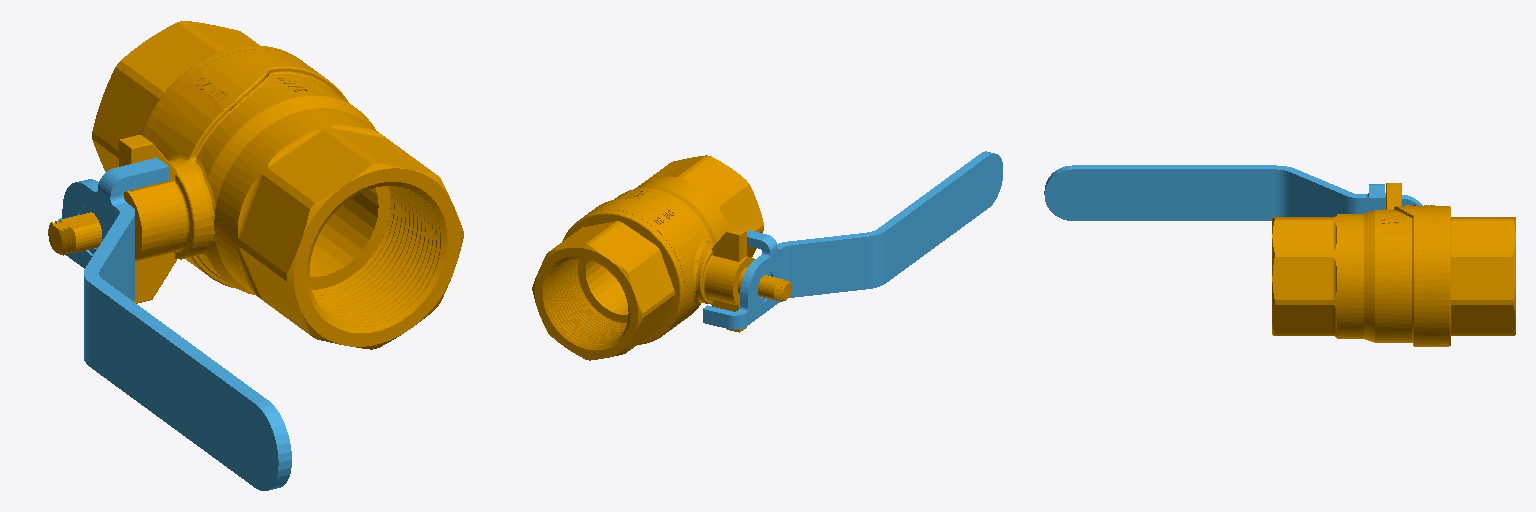
robot.urdf — valvula:
<?xml version="1.0" encoding="UTF-8"?>
<robot name="valvula">
  <joint name="RevoluteJoint" type="revolute">
    <origin xyz="0.0373985 0. 0. " rpy="0. 0. 3.14159"/>
    <parent link="body"/>
    <child link="lever_pivot"/>
    <axis xyz="1. 0. 0."/>
    <limit lower="0." upper="1.5707963" effort="100." velocity="10."/>
  </joint>
  <link name="body">
<inertial>
      <origin xyz="0 0 0" rpy="0 0 0"/>
      <mass value="1.0"/>
      <inertia ixx="0.001" ixy="0" ixz="0" iyy="0.001" iyz="0" izz="0.001"/>
    </inertial>  
    <visual>
      <origin xyz="0.0374 0. 0. " rpy="0. 0. 1.5707964"/>
      <geometry>
        <mesh filename="./meshes/Mesh_1.obj" scale="1. 1. 1."/>
      </geometry>
    </visual>
    <collision>
      <origin xyz="0.04 0.01150000054622069 -1.5075335787680833e-19" rpy="0 0 0"/>
      <geometry>
        <box size="0.06400000303983688 0.06000000284984708 0.0370000017574057"/>
      </geometry>
    </collision>
  </link>
  <link name="lever_pivot">
<inertial>
      <origin xyz="0 0 0" rpy="0 0 0"/>
      <mass value="0.2"/>
      <inertia ixx="0.0001" ixy="0" ixz="0" iyy="0.0001" iyz="0" izz="0.0001"/>
    </inertial>  
    <visual>
    <origin xyz="0. -0.0000015 0. " rpy="0. 0. -1.5707963"/>
      <geometry>
        <mesh filename="./meshes/Mesh_3.obj" scale="1. 1. 1."/>
      </geometry>
    </visual>
    <collision>
    <origin xyz="0.038 0.039 0.0019985137935021884" rpy="0 0 -1.5707963"/>      <geometry>
        <box size="0.10550000119628367 0.029 0.019"/>
      </geometry>
    </collision>
  </link>
</robot>

--- Facts derived from the render (not from the file) ---
Views: 3 orthographic renders of the robot side by side, from view 1: azimuth 30°, elevation 25°; view 2: azimuth 150°, elevation 25°; view 3: azimuth 270°, elevation 25°.
Model valvula with 2 links and 1 joints (1 revolute), rooted at body, posed every joint at zero.
Visible links, largest first — view 1: body, lever_pivot; view 2: body, lever_pivot; view 3: body, lever_pivot.
Boxes of the visible links, x1,y1,x2,y2 form: body: [48, 21, 463, 349]; lever_pivot: [58, 158, 291, 490]; body: [532, 155, 791, 360]; lever_pivot: [703, 151, 1002, 329]; body: [1272, 183, 1515, 346]; lever_pivot: [1044, 165, 1422, 220].
Size in the robot's own frame: 0.0715 by 0.124 by 0.037 metres.
Meshes: 2 distinct files referenced, 2 mesh visuals loaded (2 OBJ).
